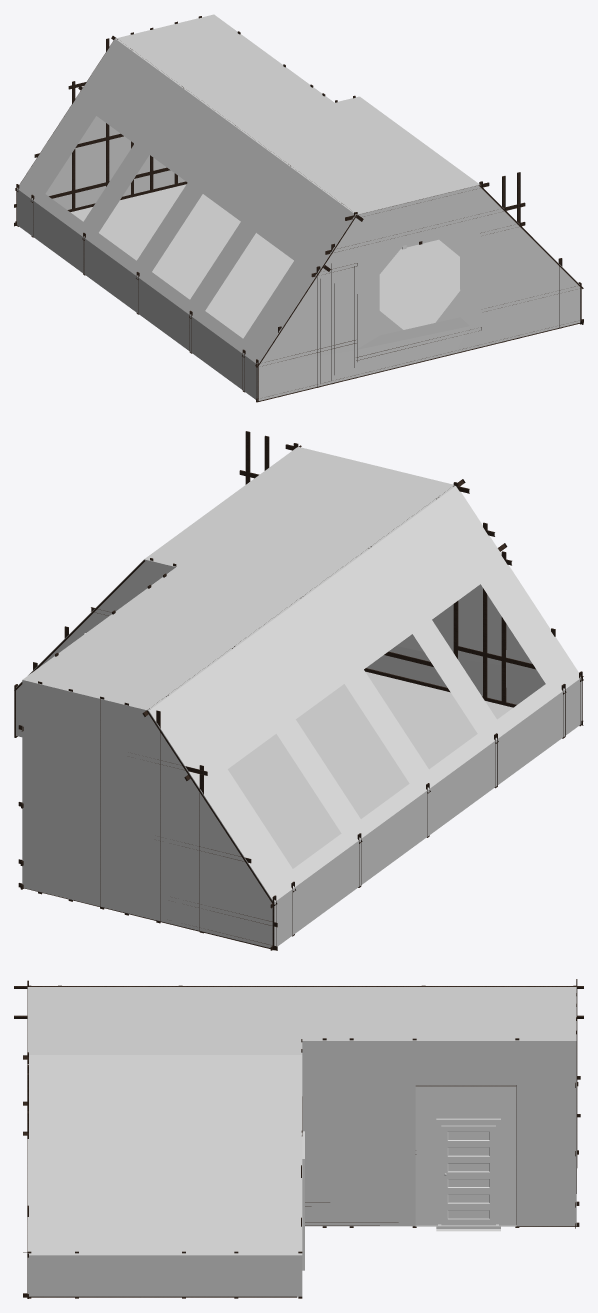
File: House_without_fillings.fbx
3 renders of one model, top to bottom at view 1: azimuth 30°, elevation 25°; view 2: azimuth 150°, elevation 25°; view 3: azimuth 270°, elevation 25°, orthographic. The views are drawn at different scales.
Visible parts, largest first — view 1: Walls, Floor, Extra detail wood.003, Extra detail wood.001, Extra detail wood.002; view 2: Walls, Floor, Extra detail wood.003, Extra detail wood.001, Extra detail wood.002, Extra detail wood; view 3: Walls, Extra detail panel.001, Door, Extra detail wood, Extra detail wood.002, Door.001.
Boxes of the visible parts, <box> form: Walls: <box>17,14,580,400</box>; Floor: <box>70,184,460,338</box>; Extra detail wood.003: <box>256,172,583,402</box>; Extra detail wood.001: <box>14,16,201,226</box>; Extra detail wood.002: <box>15,36,363,401</box>; Walls: <box>16,447,581,947</box>; Floor: <box>228,671,512,868</box>; Extra detail wood.003: <box>239,431,583,725</box>; Extra detail wood.001: <box>18,681,277,950</box>; Extra detail wood.002: <box>142,479,583,950</box>; Extra detail wood: <box>14,445,301,889</box>; Walls: <box>27,987,576,1296</box>; Extra detail panel.001: <box>415,1085,516,1226</box>; Door: <box>436,1118,500,1231</box>; Extra detail wood: <box>23,1038,579,1298</box>; Extra detail wood.002: <box>14,985,583,1117</box>; Door.001: <box>302,1131,304,1270</box>.
Bounding box in the file's own units: 968 × 475 × 1275.
Materials: 5 (1 with a texture image).
